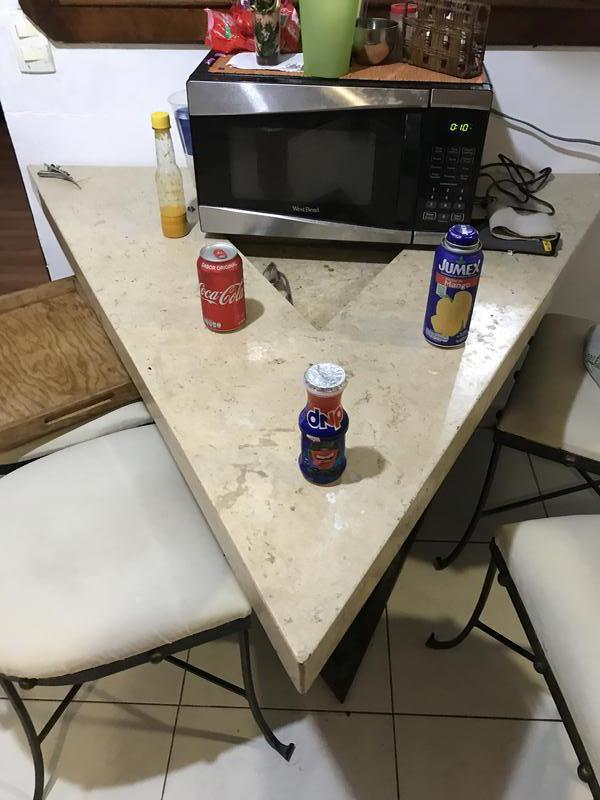coca_cola: (196, 243, 246, 334)
danup: (299, 362, 349, 485)
jugo_jumex: (425, 227, 485, 350)
